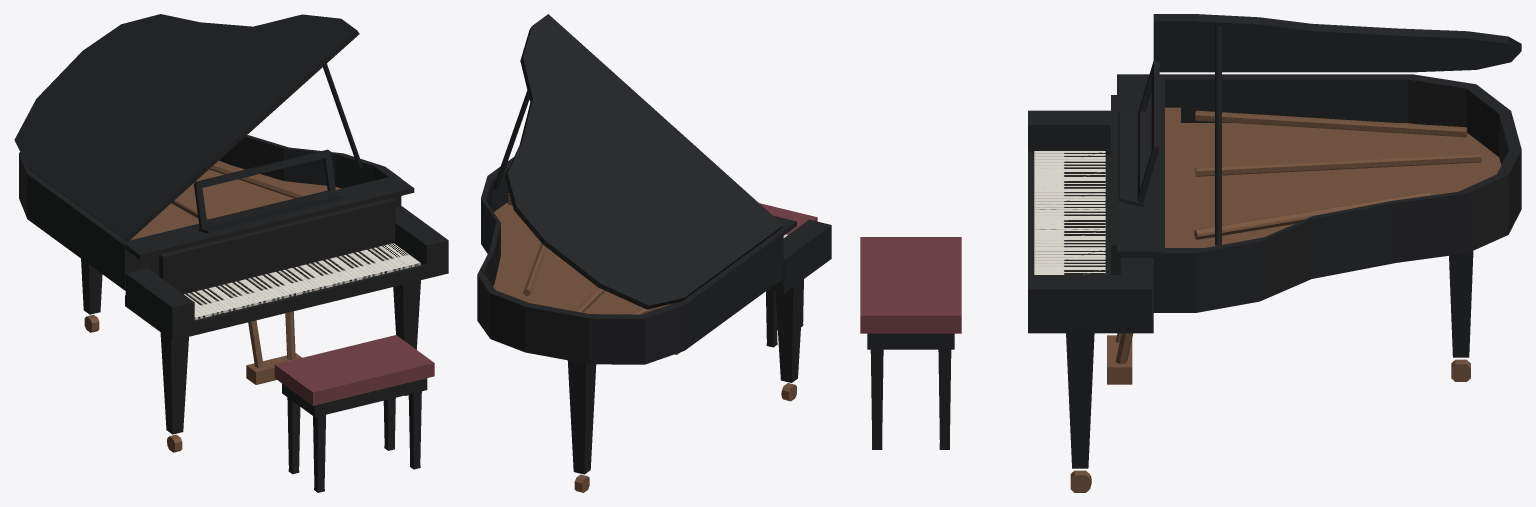
The model's file is s15-grand-piano-low.glb.
3 views of the same model, side by side, from view 1: azimuth 30°, elevation 25°; view 2: azimuth 150°, elevation 25°; view 3: azimuth 270°, elevation 25° (orthographic). The views are drawn at different scales.
Parts seen in each view (by area): view 1: Case and action, Raised lid, Bench, Keyboard and music rest; view 2: Raised lid, Case and action, Bench; view 3: Case and action, Raised lid, Bench, Keyboard and music rest.
Part boxes in pixels (<box>): Case and action: <box>19,135,448,452</box>; Raised lid: <box>14,14,362,241</box>; Bench: <box>274,335,434,492</box>; Keyboard and music rest: <box>184,149,420,319</box>; Raised lid: <box>493,14,783,309</box>; Case and action: <box>477,157,831,492</box>; Bench: <box>759,203,817,347</box>; Case and action: <box>1028,74,1521,492</box>; Raised lid: <box>1153,14,1521,245</box>; Bench: <box>860,237,961,449</box>; Keyboard and music rest: <box>1034,60,1159,274</box>.
Size of the model in its own units: 1.76 by 2.13 by 2.75.
1 material, 1 textured.
